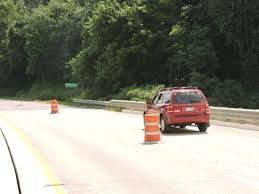barrel: (143, 110, 160, 140), (50, 99, 59, 113)
